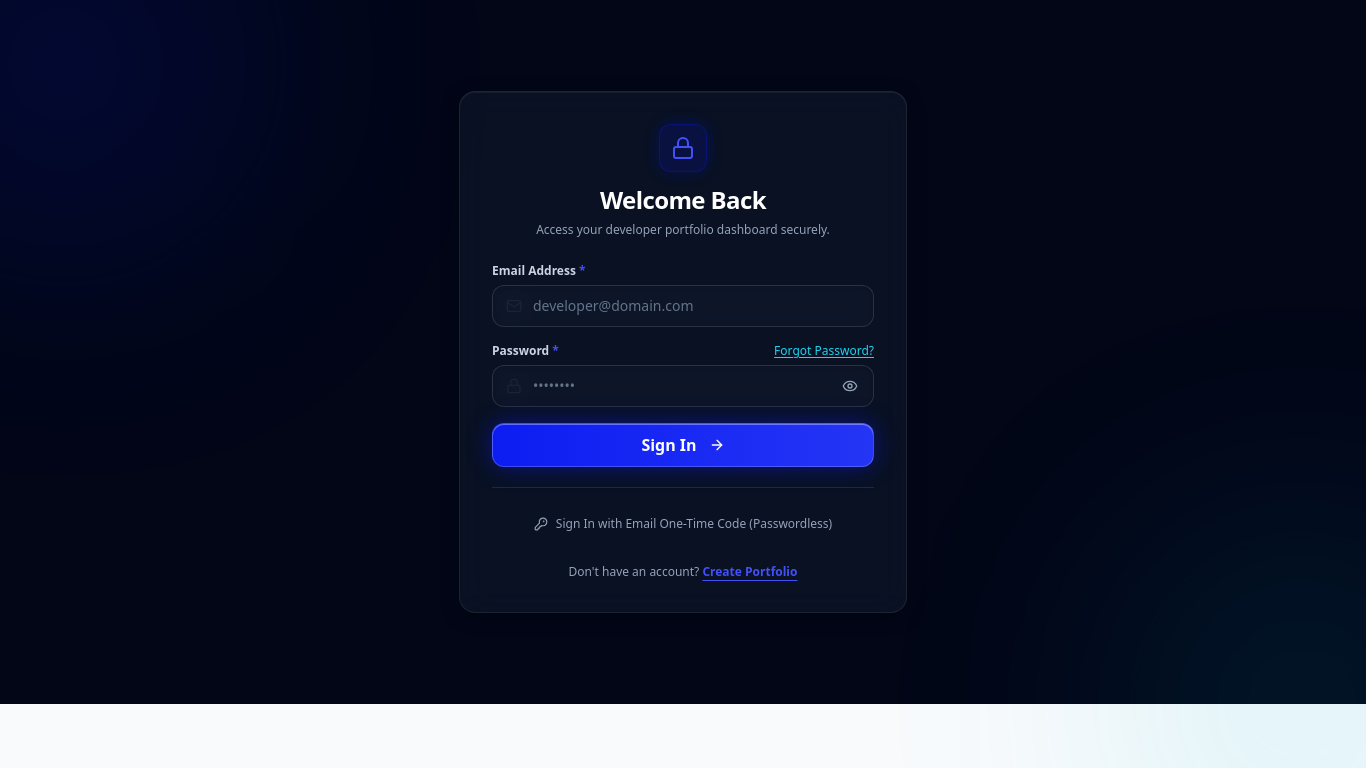
Scenario: FORGOT PASSWORD & OTP RESET WORKFLOW TESTS › 2. LoginPage Integration with Forgot Password Flow › should display "Forgot Password?" button and open modal on click
The image size is (1366, 768).
Expected: the button "Forgot Password?" is shown, [774,343,874,359]
// Enter email in login form first
Step 1. Type "forgotuser@codefolio.dev" into the field with placeholder "developer@domain.com" → (683, 306), box [492,285,874,327]
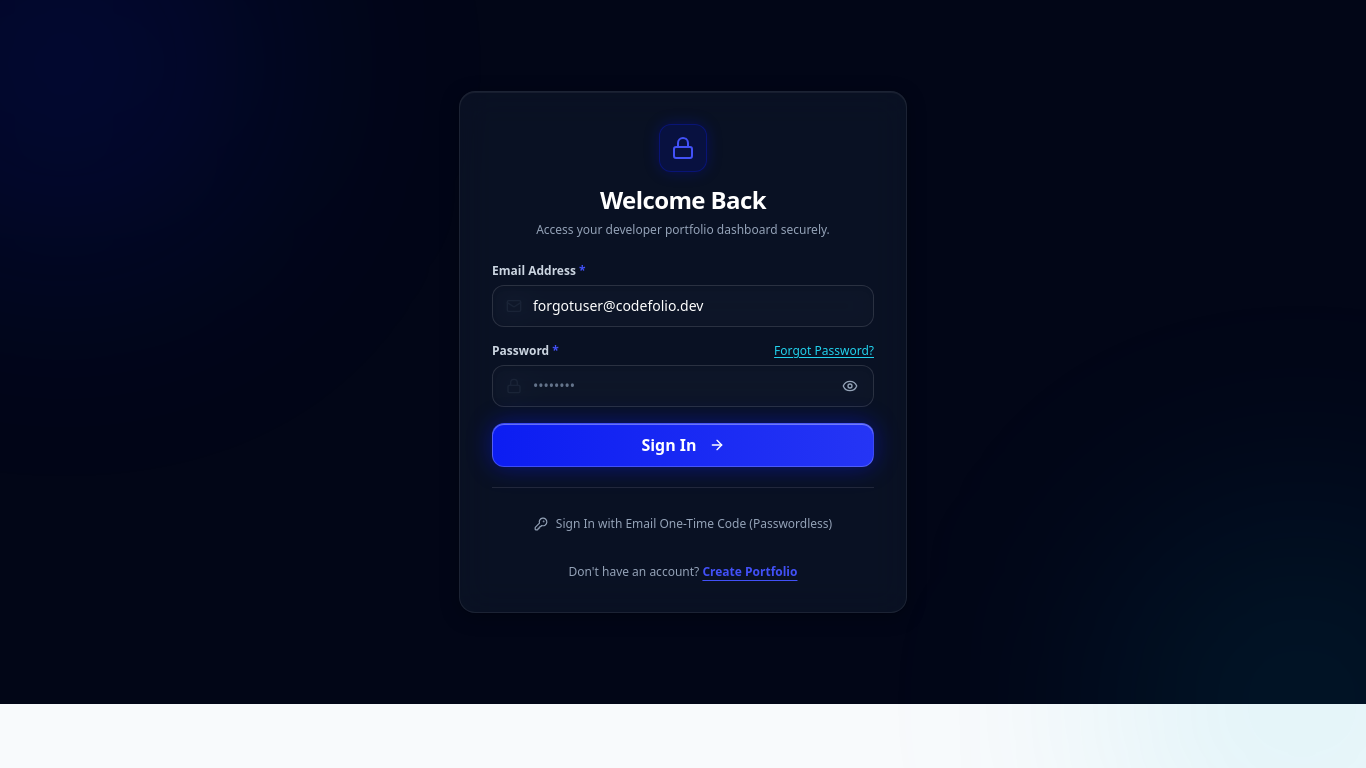
// Click Forgot Password
Step 2. Click the button "Forgot Password?" → click(824, 351), box [774,343,874,359]
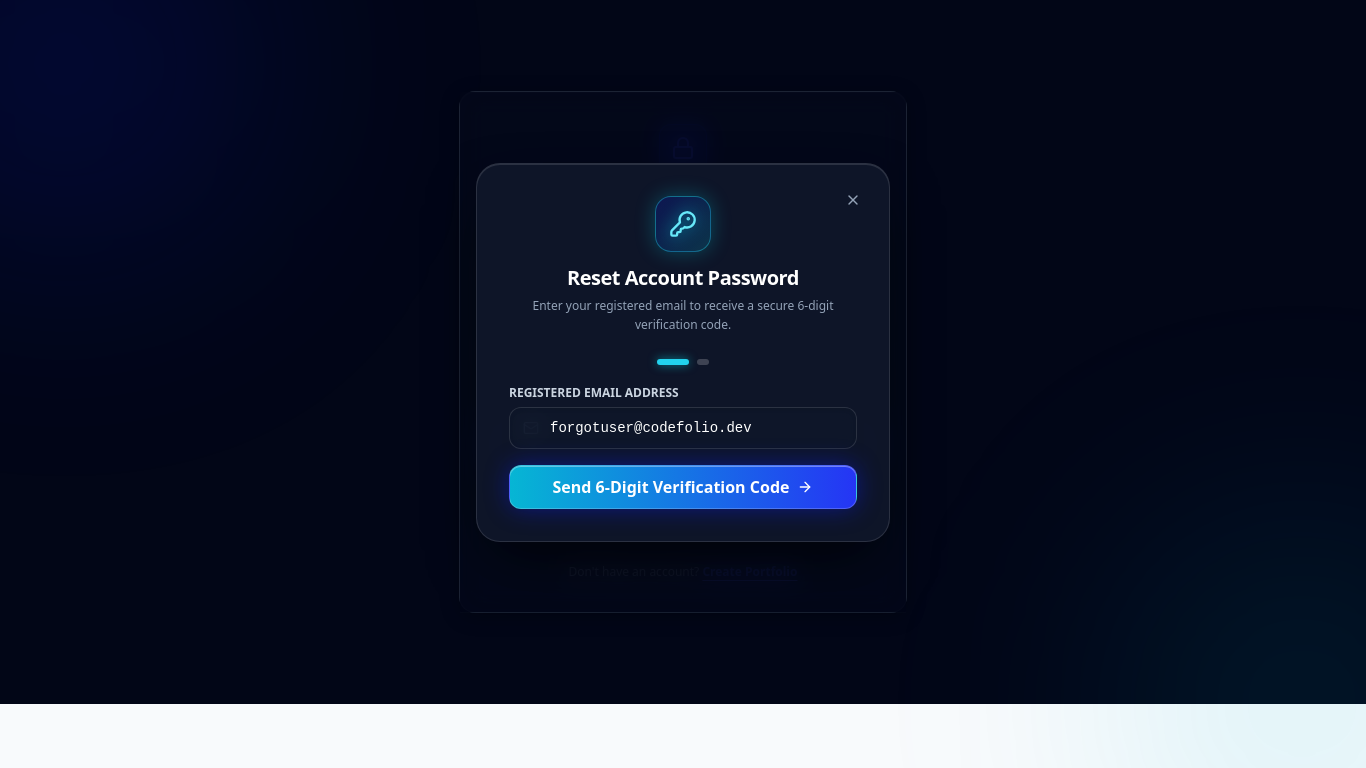
Expected: the heading "Reset Account Password" is shown, [567,264,799,292]
